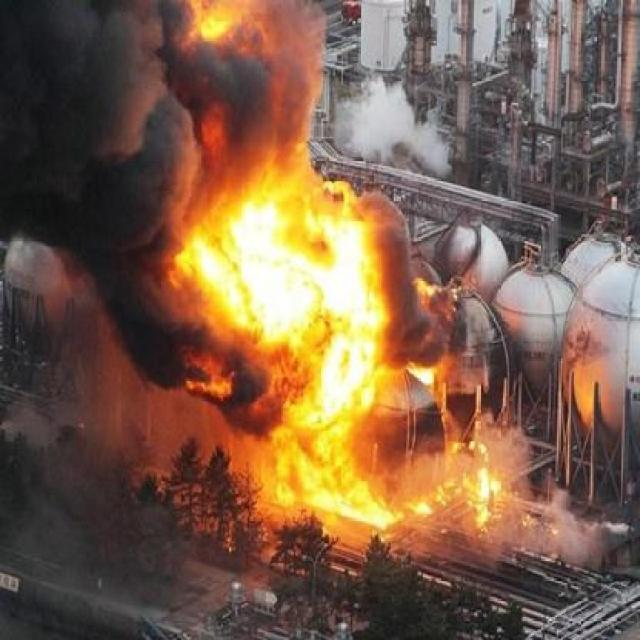Fire: (210, 181, 427, 538), (214, 0, 316, 183)
Smoke: (5, 2, 208, 386)
